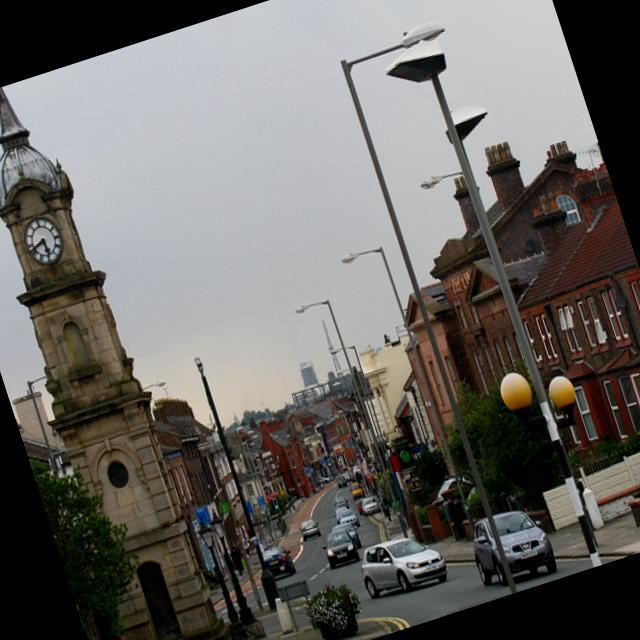Vehicle: (463, 501, 561, 596), (353, 524, 451, 604), (310, 443, 379, 528), (320, 528, 361, 571), (261, 540, 299, 584), (329, 520, 364, 556), (298, 516, 323, 542), (358, 493, 382, 518), (338, 507, 362, 532), (330, 504, 352, 524), (348, 480, 366, 500), (334, 474, 348, 490), (317, 475, 331, 485)
